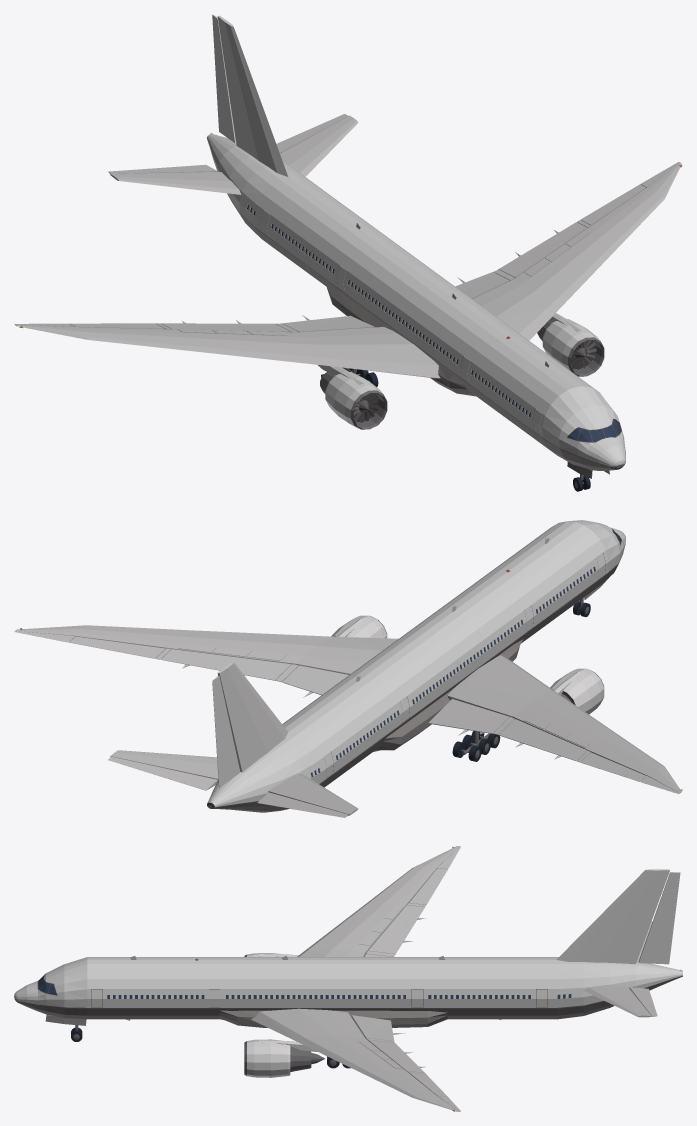
The model's file is widebody-airliner-ae0a5a.glb.
3 views of the same model, one above another, from view 1: azimuth 30°, elevation 25°; view 2: azimuth 150°, elevation 25°; view 3: azimuth 270°, elevation 25° (orthographic). The views are drawn at different scales.
Visible parts, largest first — view 1: airframe, rudder-mesh, flap-out-l-mesh, flap-in-r-mesh, flap-out-r-mesh, flap-in-l-mesh; view 2: airframe, flap-out-l-mesh, rudder-mesh, flap-in-r-mesh, flap-out-r-mesh, flap-in-l-mesh, elevator-l-mesh, aileron-l-mesh, elevator-r-mesh, spoiler-l-mesh, aileron-r-mesh, spoiler-r-mesh; view 3: airframe, rudder-mesh, flap-out-r-mesh, flap-in-l-mesh, flap-out-l-mesh, aileron-r-mesh, spoiler-r-mesh.
Boxes of the visible parts, x1,y1,x2,y2 form: airframe: [14, 15, 682, 470]; rudder-mesh: [212, 14, 236, 143]; flap-out-l-mesh: [498, 222, 587, 278]; flap-in-r-mesh: [282, 315, 374, 332]; flap-out-r-mesh: [161, 320, 290, 332]; flap-in-l-mesh: [455, 272, 509, 298]; airframe: [14, 520, 682, 815]; flap-out-l-mesh: [161, 649, 291, 680]; rudder-mesh: [212, 676, 240, 788]; flap-in-r-mesh: [428, 699, 509, 735]; flap-out-r-mesh: [499, 719, 587, 761]; flap-in-l-mesh: [282, 665, 348, 697]; elevator-l-mesh: [108, 756, 217, 790]; aileron-l-mesh: [69, 636, 165, 658]; elevator-r-mesh: [257, 792, 348, 817]; spoiler-l-mesh: [178, 644, 287, 660]; aileron-r-mesh: [580, 752, 645, 781]; spoiler-r-mesh: [524, 714, 590, 747]; airframe: [14, 846, 682, 1111]; rudder-mesh: [638, 872, 680, 964]; flap-out-r-mesh: [368, 905, 425, 954]; flap-in-l-mesh: [351, 1015, 404, 1041]; flap-out-l-mesh: [368, 1040, 425, 1072]; aileron-r-mesh: [409, 868, 447, 904]; spoiler-r-mesh: [358, 906, 403, 945].
Size of the model in its own units: 60 by 17.95 by 64.
